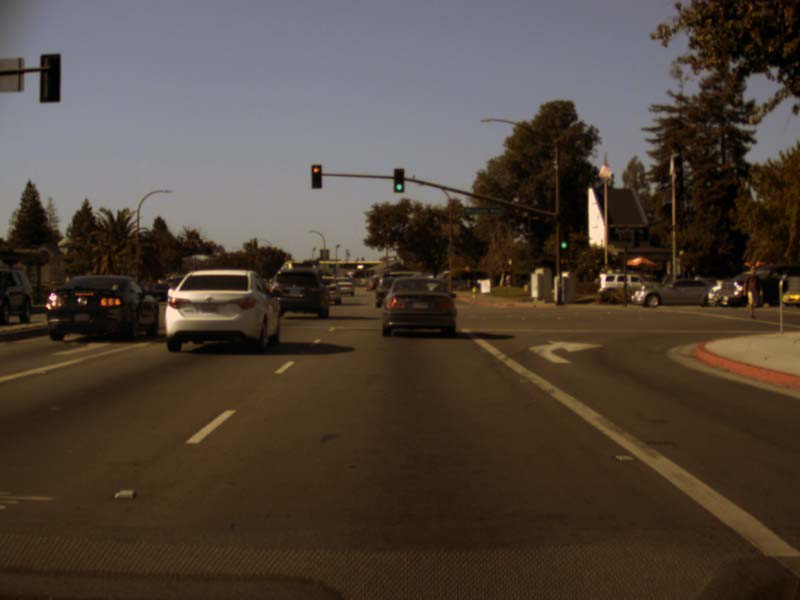Green: (394, 168, 403, 192), (560, 228, 567, 249)
Red: (311, 164, 321, 188)
